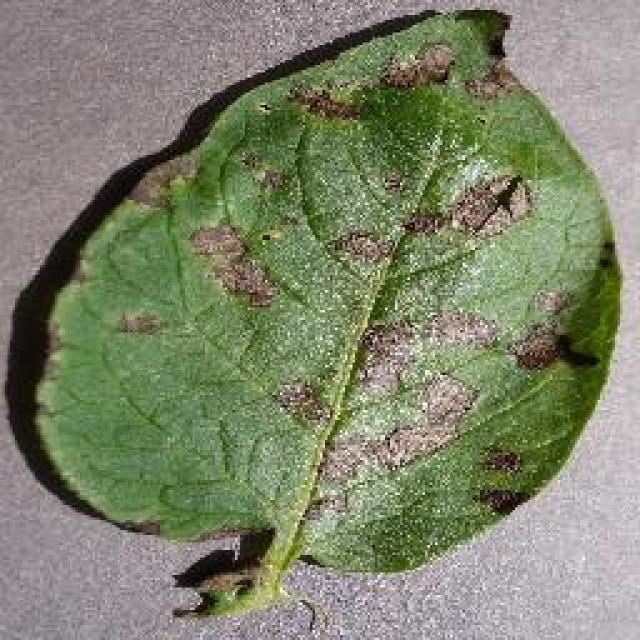early_blight: (20, 2, 625, 620)
